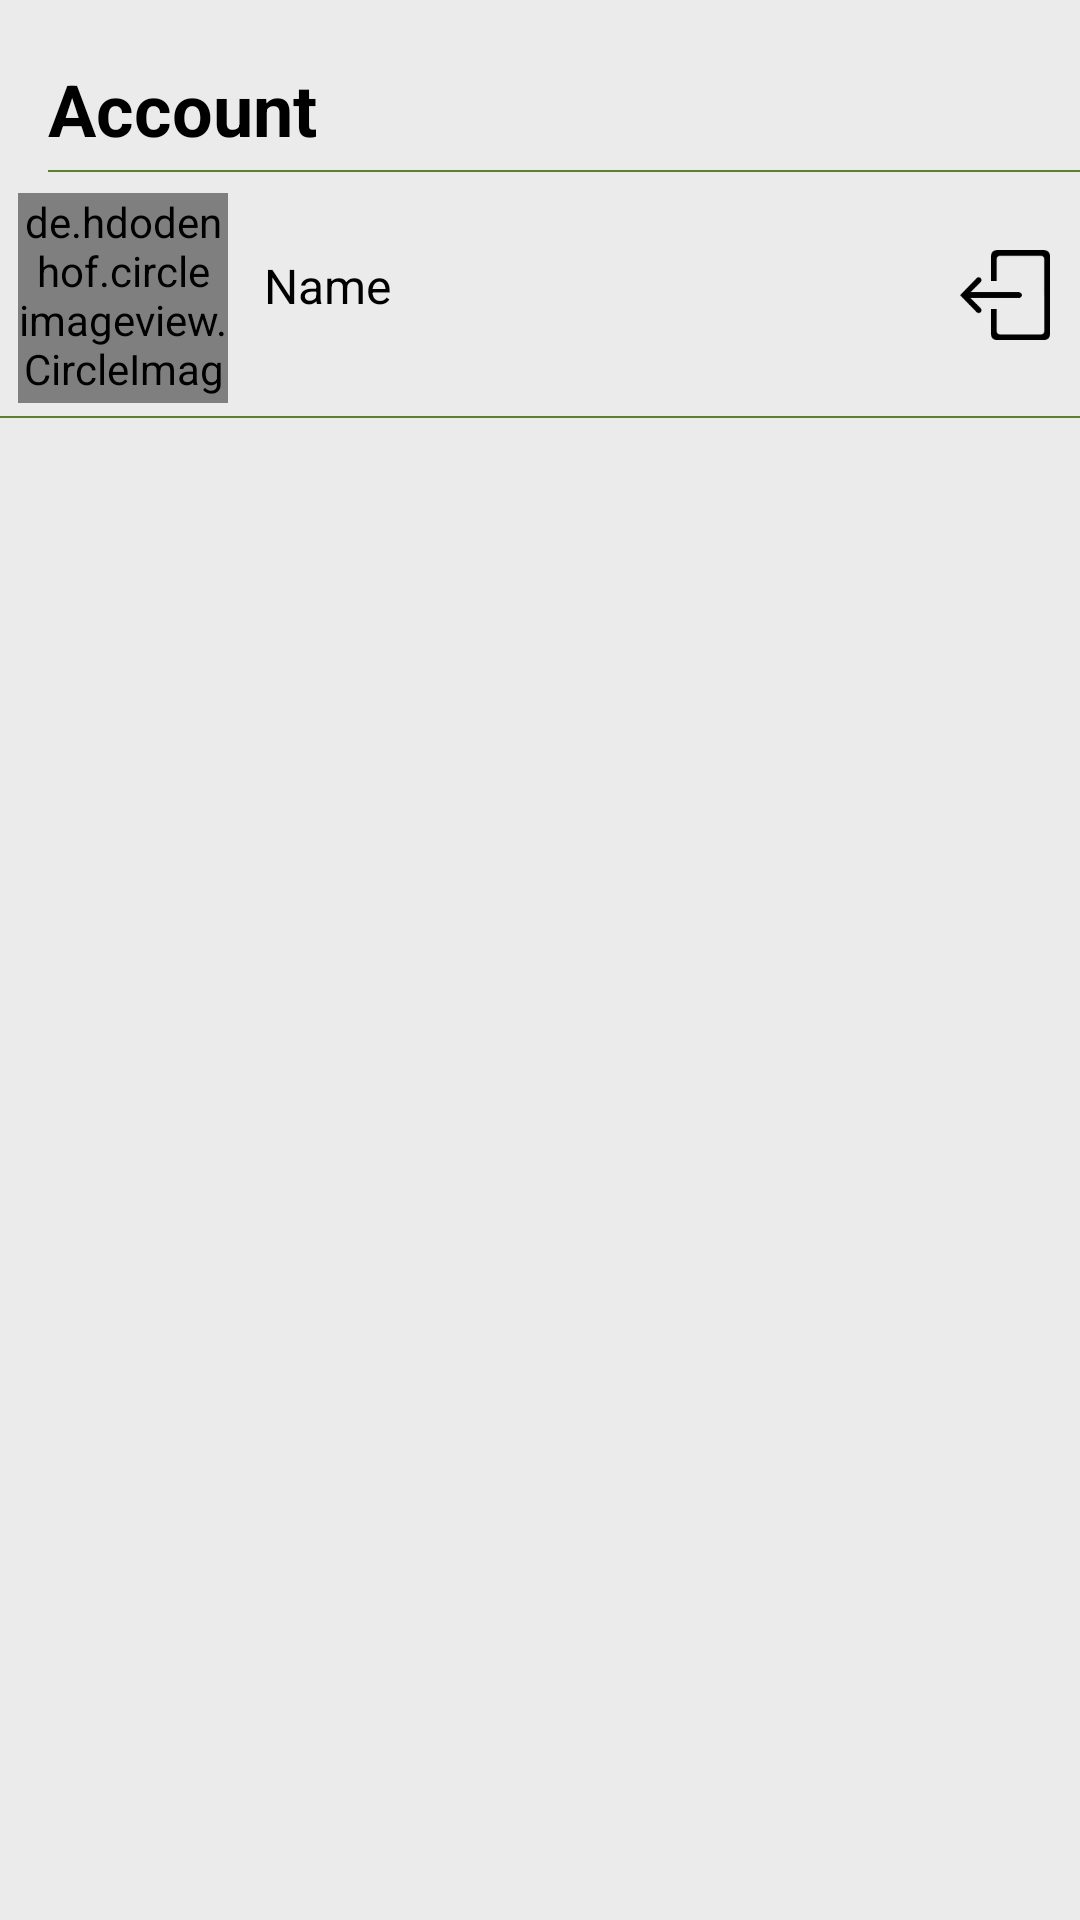

Named icons in this screenshot (1080 x 1920) and their bounding boxes, region(x1, y1, x2, y2):
disconnect: region(960, 250, 1050, 340)
